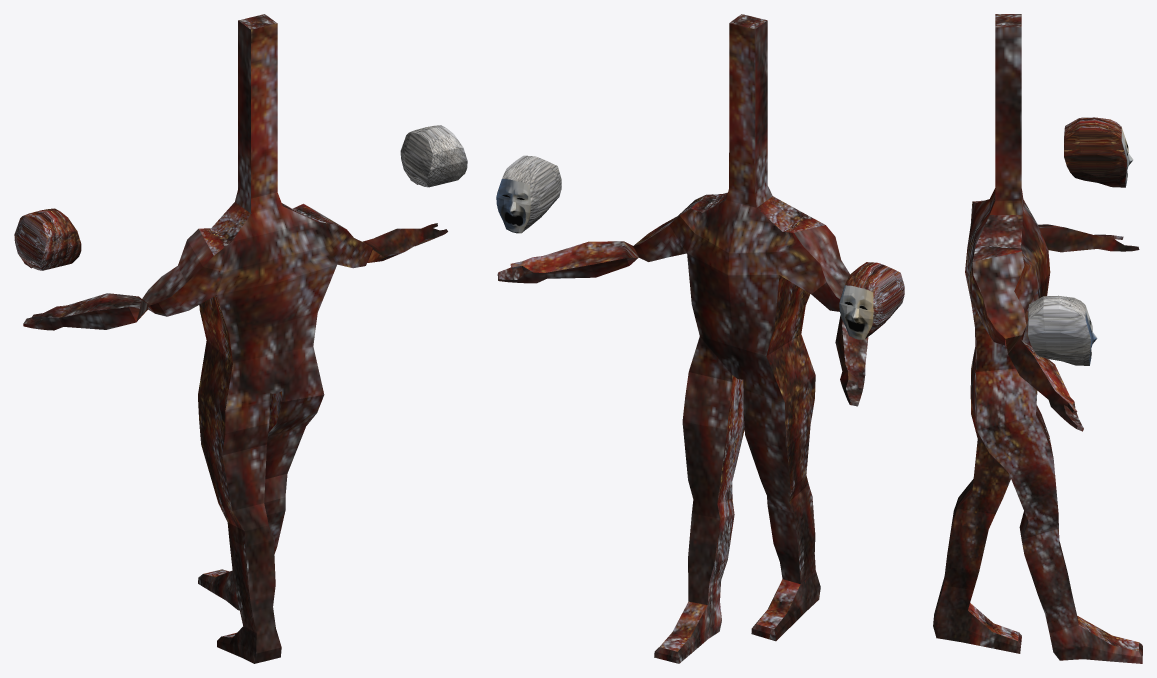
The model's file is ENTIDADE.fbx.
3 views of the same model, side by side, from view 1: azimuth 30°, elevation 25°; view 2: azimuth 150°, elevation 25°; view 3: azimuth 270°, elevation 25° (orthographic). The views are drawn at different scales.
Parts seen in each view (by area): view 1: char, rosto1, rosto2; view 2: char, rosto1, rosto2; view 3: char, rosto1, rosto2.
Part boxes in pixels (box(x1,y1,x2,y2)): char: box(23, 14, 447, 663); rosto1: box(14, 208, 81, 270); rosto2: box(400, 125, 467, 187); char: box(497, 14, 868, 663); rosto1: box(839, 262, 904, 339); rosto2: box(496, 155, 561, 233); char: box(933, 14, 1142, 663); rosto1: box(1064, 117, 1133, 187); rosto2: box(1028, 295, 1097, 365).
Bounding box in the file's own units: 321 × 461 × 137.
1 material, 1 textured.
